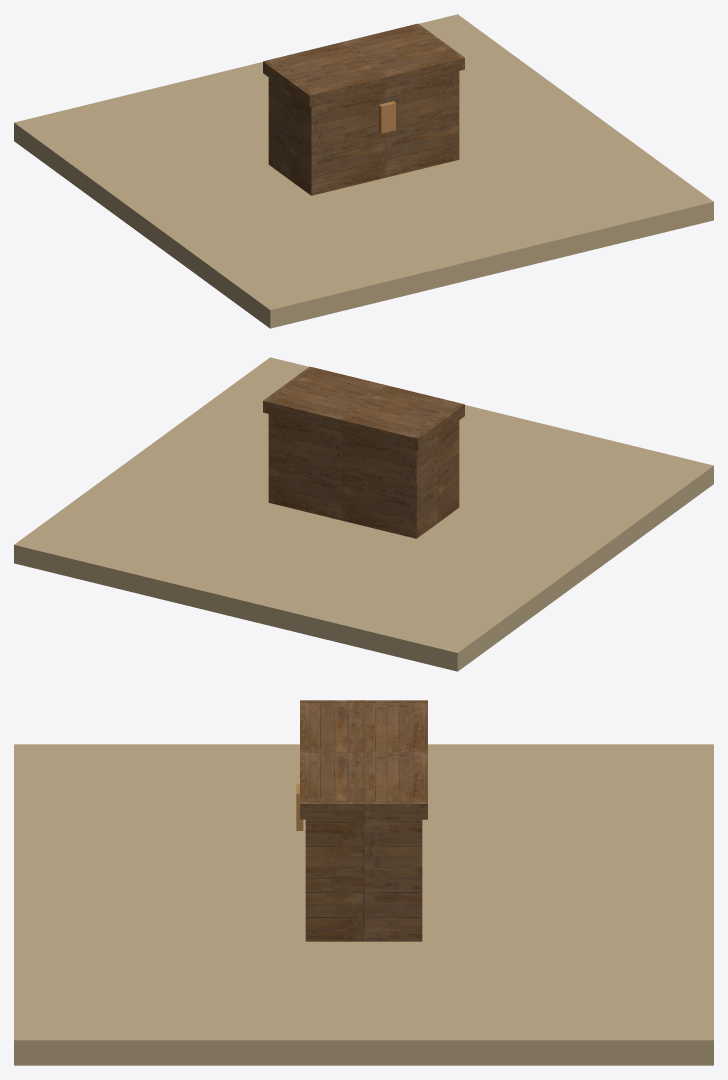
The model's file is cofre.glb.
The picture shows the model from 3 angles, top to bottom: view 1: azimuth 30°, elevation 25°; view 2: azimuth 150°, elevation 25°; view 3: azimuth 270°, elevation 25°; orthographic projection. The views are drawn at different scales.
Visible parts, largest first — view 1: Base ilustrativa, Caixa, Tampa, Fecho; view 2: Base ilustrativa, Caixa, Tampa; view 3: Base ilustrativa, Tampa, Caixa.
Part boxes in pixels (<box>): Base ilustrativa: <box>14,14,713,328</box>; Caixa: <box>268,71,459,195</box>; Tampa: <box>263,23,464,107</box>; Fecho: <box>378,101,395,133</box>; Base ilustrativa: <box>14,357,713,671</box>; Caixa: <box>268,414,459,538</box>; Tampa: <box>263,366,464,450</box>; Base ilustrativa: <box>14,744,713,1065</box>; Tampa: <box>300,700,427,819</box>; Caixa: <box>305,819,422,941</box>.
Size of the model in its own units: 6 by 1.56 by 6.
3 materials, 1 textured.
